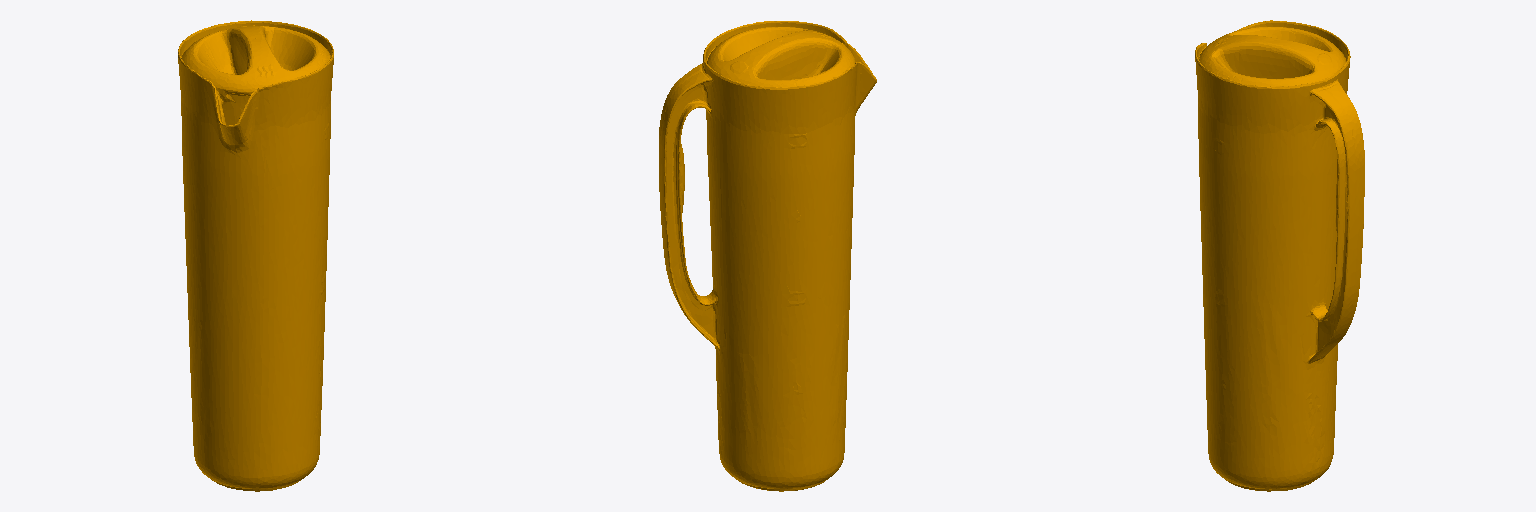
URDF robot description (waterjar):
<?xml version="1.0"?>
<robot name="waterjar">

  <link name="body">
    <collision>
        <origin xyz= "0.0 0.0 0.0" rpy="0 0 0"/>
        <geometry>
            <mesh filename="./meshes/waterjar.obj" scale="0.6 0.6 1"/>
        </geometry>
        <surface>
        <contact>
          <collide_without_contact>false</collide_without_contact>
        </contact>
        </surface>
    </collision>

    <visual name='visual'>
        <origin xyz= "0.0 0.0 0.0" rpy="0 0 0"/>
        <geometry>
            <mesh filename="./meshes/waterjar.obj" scale="0.6 0.6 1"/>
        </geometry>
        <material name='waterjarmaterial'>
          <script>
            <uri>./materials/scripts/waterjar.material</uri>
            <name>Gazebo/WaterjarTexture</name>
          </script>
        </material>
    </visual>

    <inertial>
      <origin xyz= "0.0 0.0 0.0" rpy="0 0 0"/>
      <mass value="0.050"/>
      <inertia ixx="1.0" ixy="0.0" ixz="0.0" iyy="1.0" iyz="0.0" izz="1.0" />
    </inertial>

  </link>
  
</robot>
   

--- What the picture shows (computed from the rendered views, not written in the file) ---
Views: 3 orthographic renders of the robot side by side, from view 1: azimuth 30°, elevation 25°; view 2: azimuth 150°, elevation 25°; view 3: azimuth 270°, elevation 25°.
Model waterjar with 1 links and 0 joints (none), rooted at body, posed every joint at zero.
Visible links, largest first — view 1: body; view 2: body; view 3: body.
Link boxes in pixels (x1=…): body: x1=178, y1=20, x2=333, y2=491; body: x1=659, y1=21, x2=876, y2=491; body: x1=1195, y1=20, x2=1364, y2=491.
Bounding box of the posed robot: 0.0895 × 0.0869 × 0.2424 m (x, y, z).
Meshes: 1 distinct files referenced, 1 mesh visuals loaded (1 OBJ).